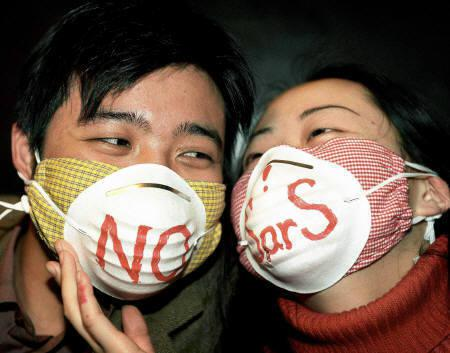OK: (55, 101, 246, 292), (240, 120, 419, 289)
